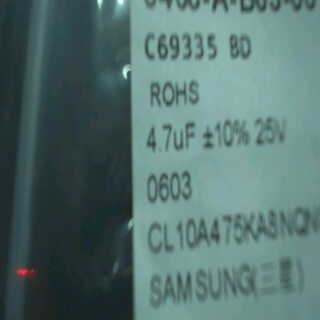4.7uF: (140, 113, 195, 155)
